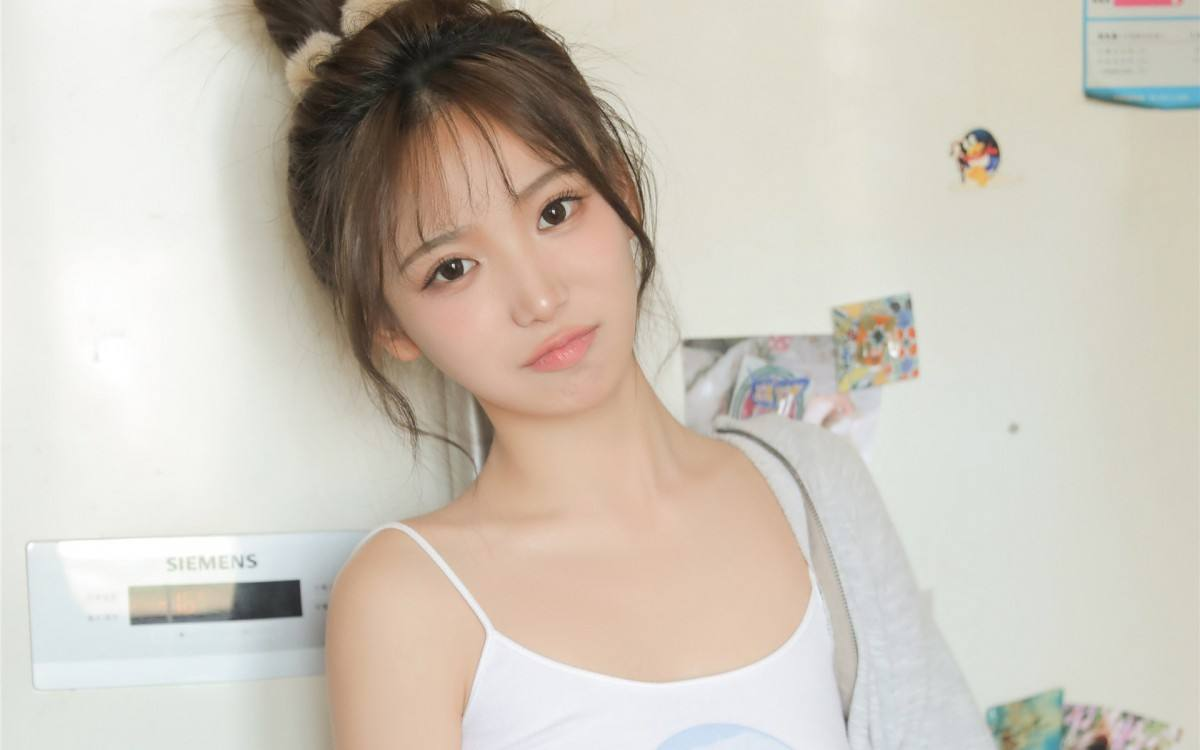person: (234, 12, 913, 726)
